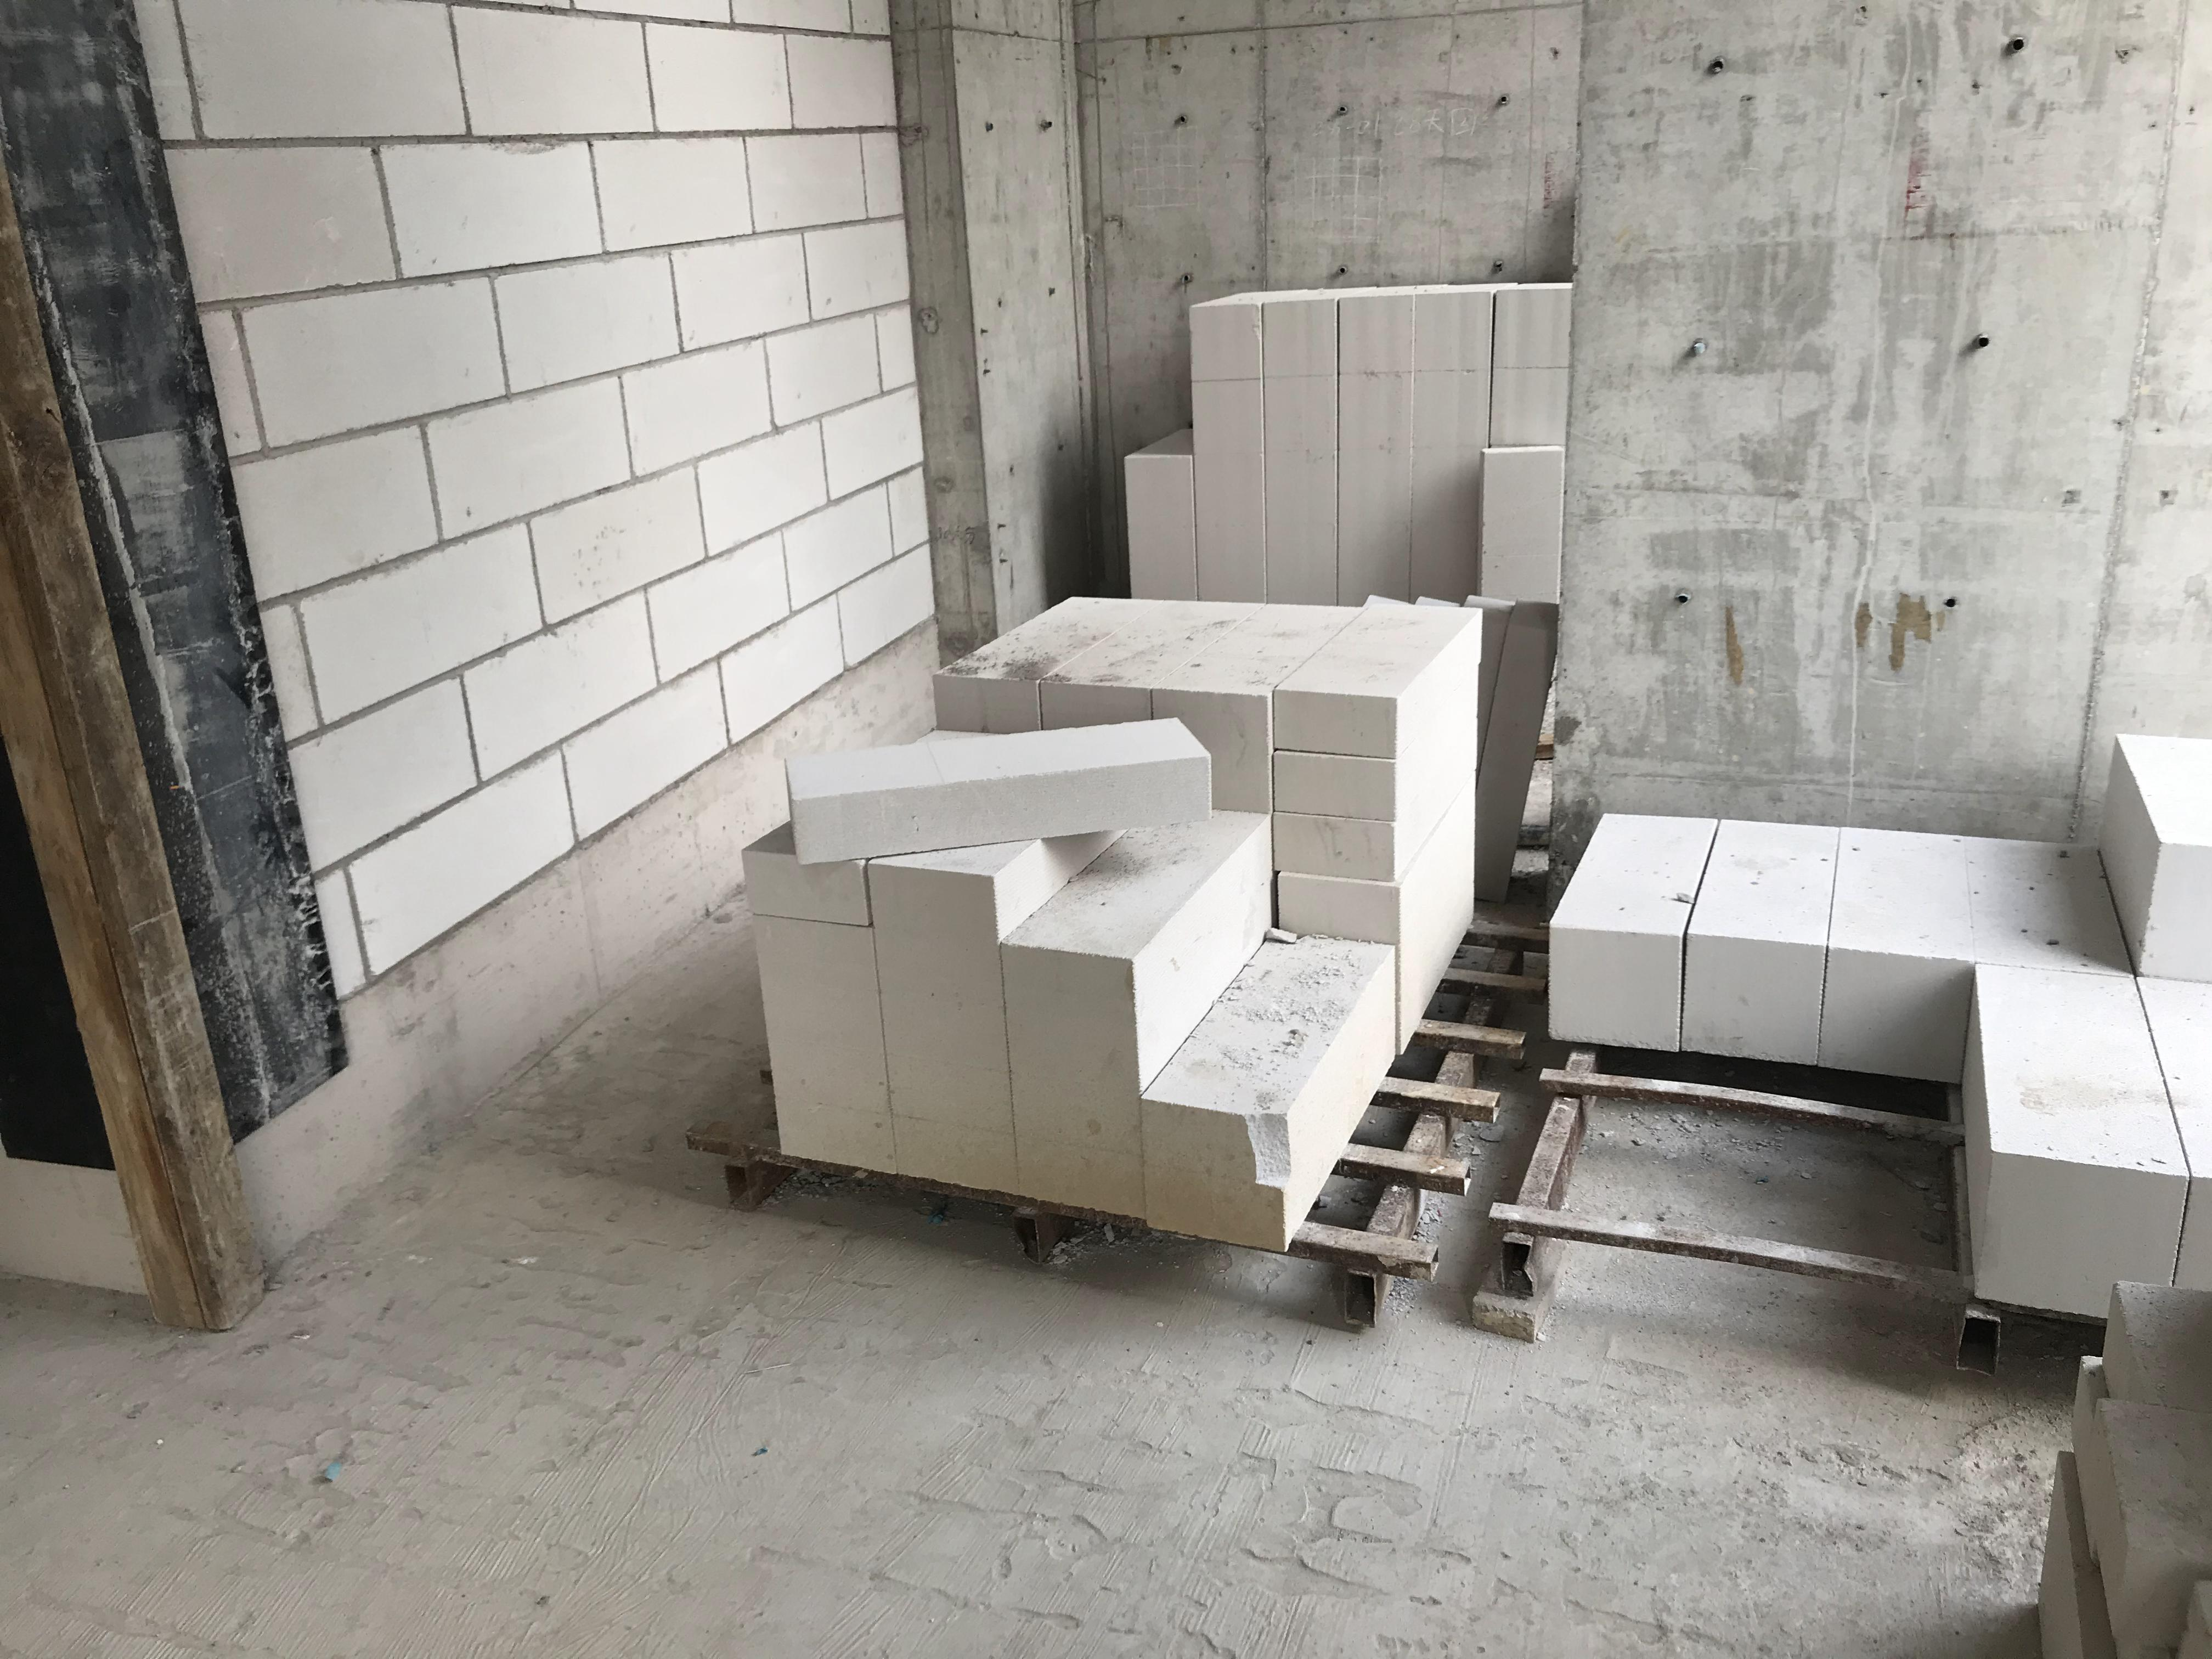brick: (738, 279, 1578, 1269), (1541, 727, 2212, 1304), (2043, 1284, 2212, 1659)
